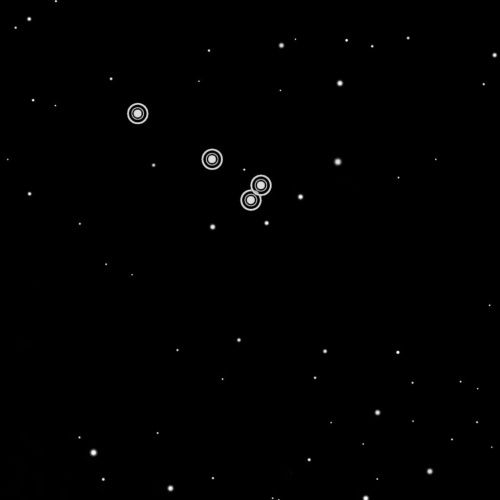sagitta: (118, 94, 275, 215)
